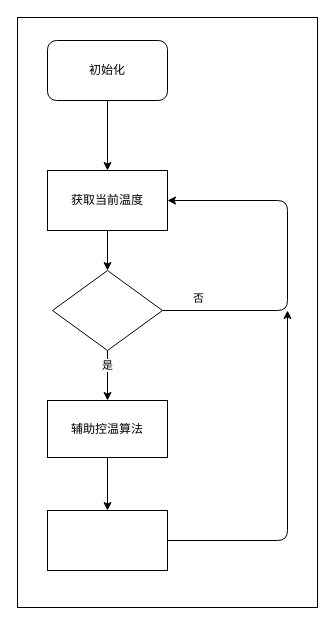
Some shapes in this 335 by 625 pixel diagram are drawn without their labels. The centre of each missing label's shape, as x and y in pixels:
旋钮开关？: the point at 107,310
调火力大小: the point at 107,540
